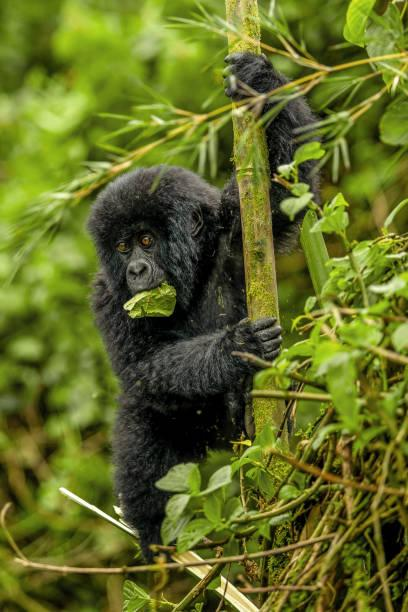goriile_montagne: (87, 165, 295, 507)
